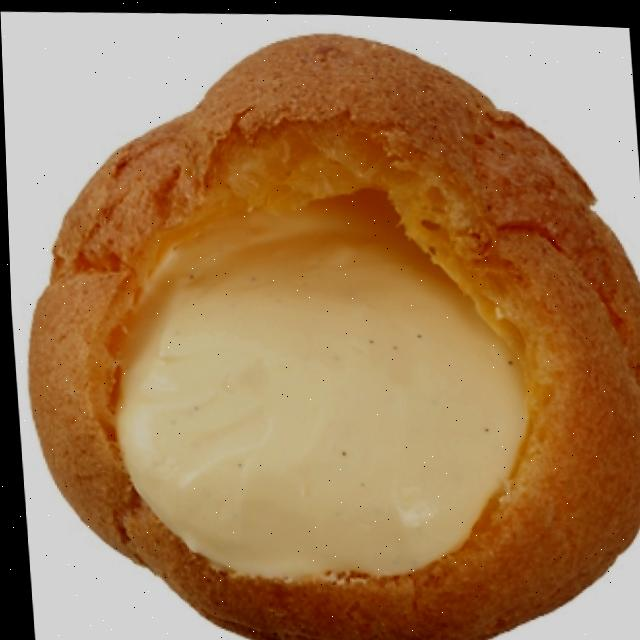炸货点心: (0, 12, 640, 640)
蛋糕甜品: (0, 12, 640, 640)
